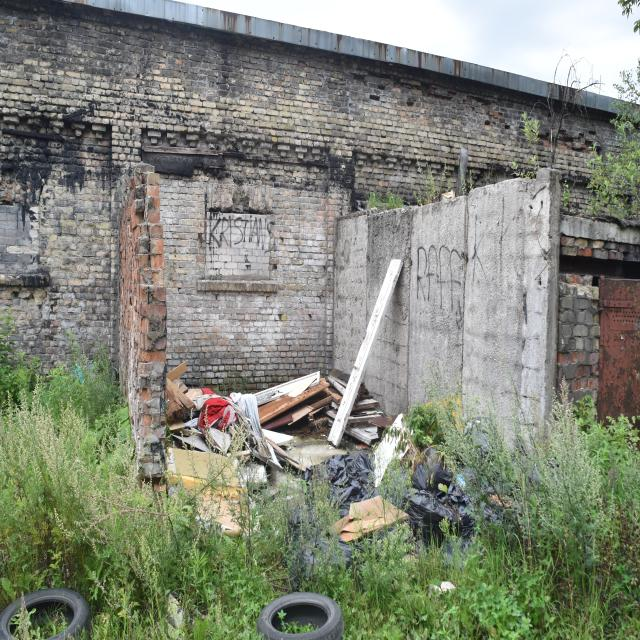entulho: (326, 254, 406, 446), (233, 368, 385, 454), (164, 447, 262, 550), (163, 361, 245, 444), (0, 576, 96, 638), (256, 592, 348, 640)
lixo domiciliar: (288, 447, 406, 593), (399, 447, 486, 555)
